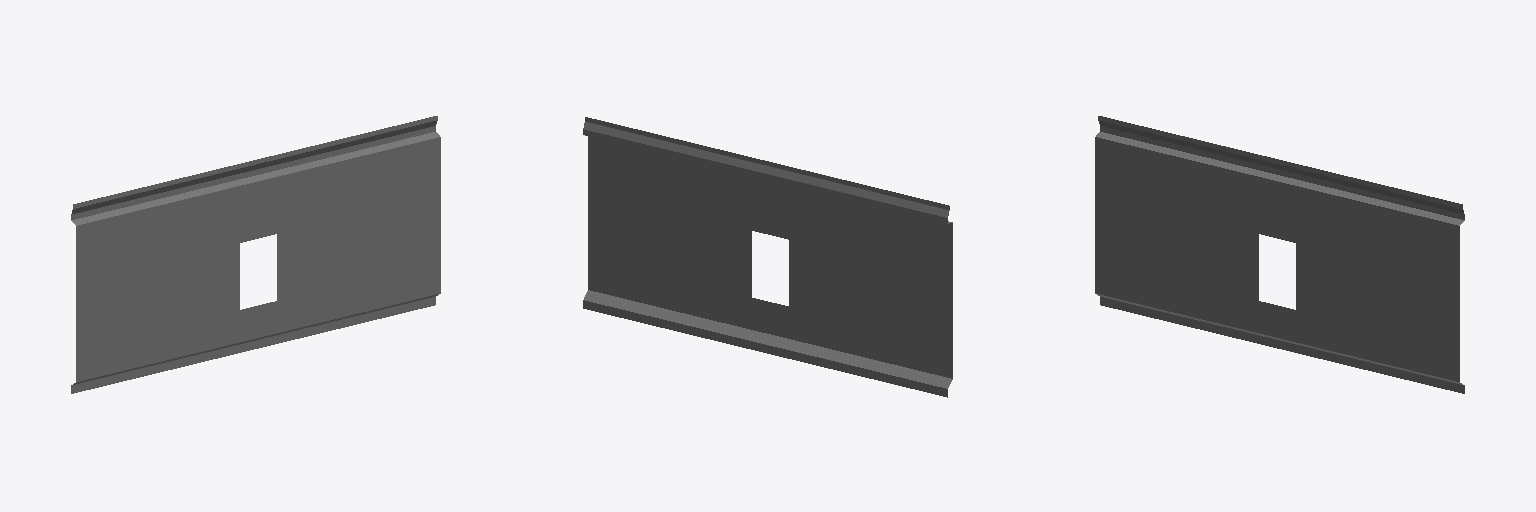
File: Wall_withWindowFrame.obj
The picture shows the model from 3 angles: view 1: azimuth 30°, elevation 25°; view 2: azimuth 150°, elevation 25°; view 3: azimuth 330°, elevation 25°; orthographic projection.
Parts seen in each view (by area): view 1: Wall_withWindowFrame.obj; view 2: Wall_withWindowFrame.obj; view 3: Wall_withWindowFrame.obj.
Boxes of the visible parts, x1=… form: Wall_withWindowFrame.obj: x1=71, y1=116, x2=440, y2=393; Wall_withWindowFrame.obj: x1=583, y1=117, x2=952, y2=397; Wall_withWindowFrame.obj: x1=1095, y1=116, x2=1464, y2=393.
Bounding box in the file's own units: 2000 × 1000 × 45.